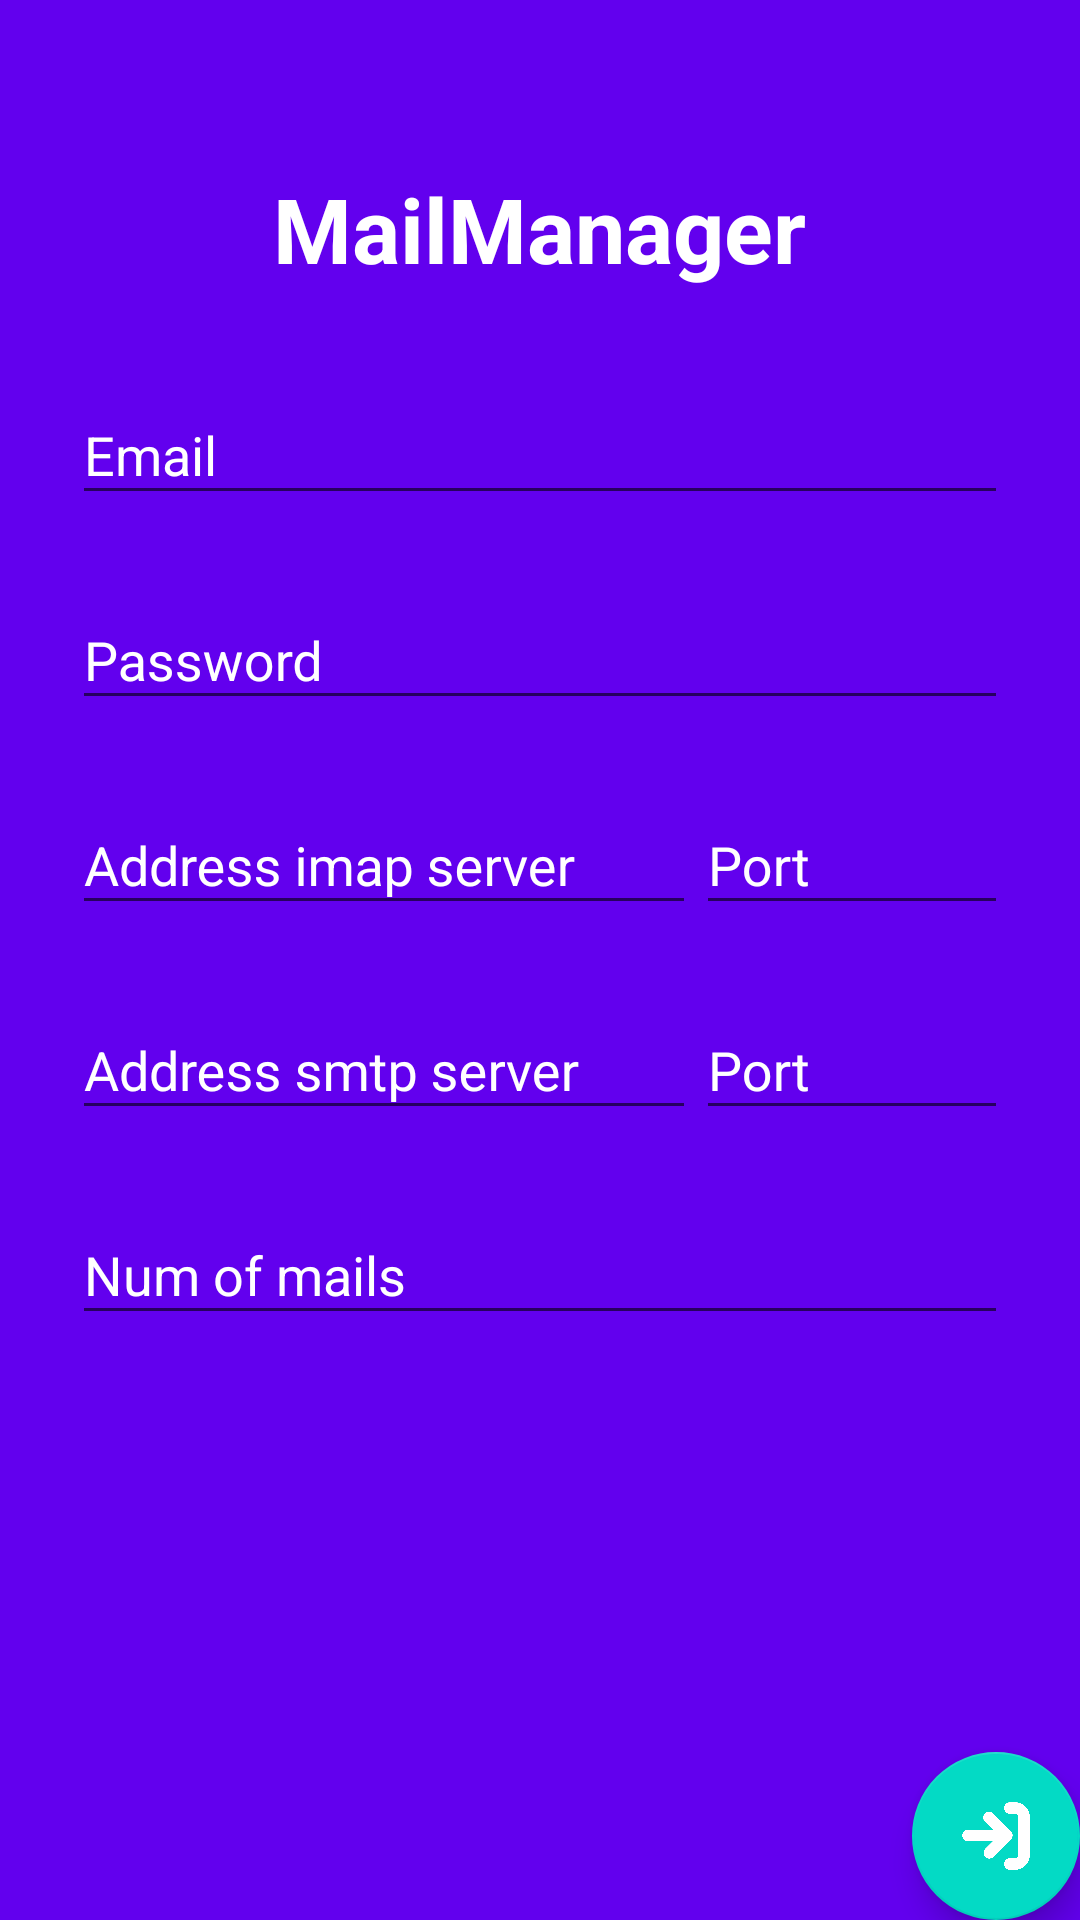

Icons on this 1080 x 1920 Android screen, each with its box as box=[x1, y1, x2, y2]:
enter: box=[912, 1752, 1080, 1920]
